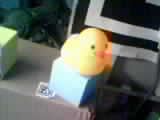duck: (54, 21, 109, 80)
